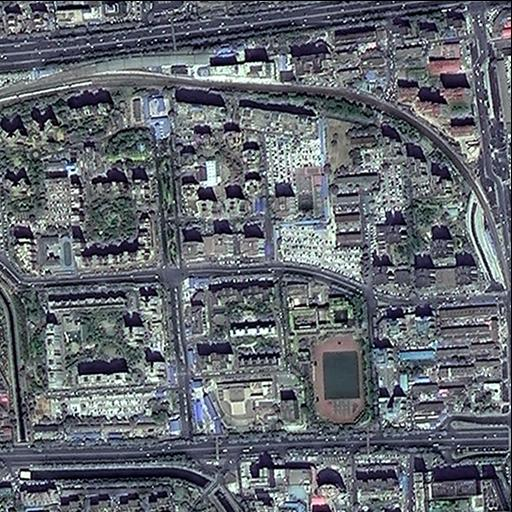school: (278, 266, 373, 436)
